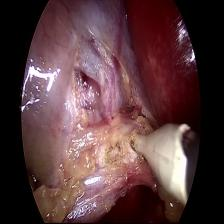Hook: (124, 119, 193, 203)
